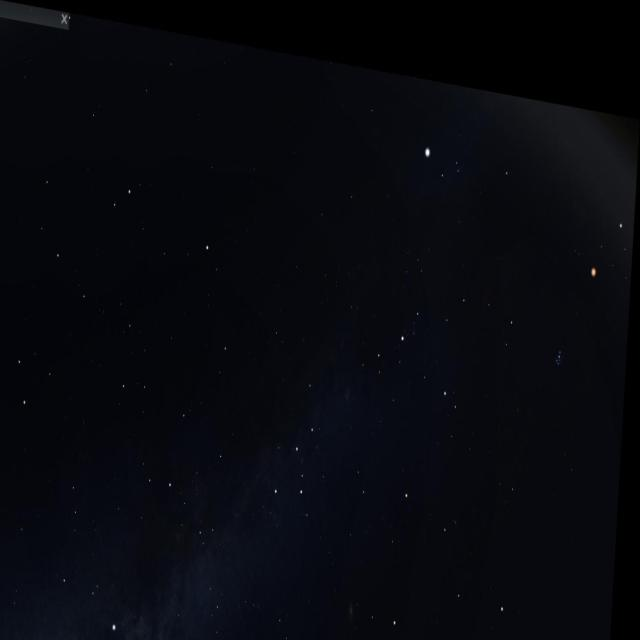cassiopeia: (276, 345, 342, 501)
pleiades: (551, 309, 574, 359)
